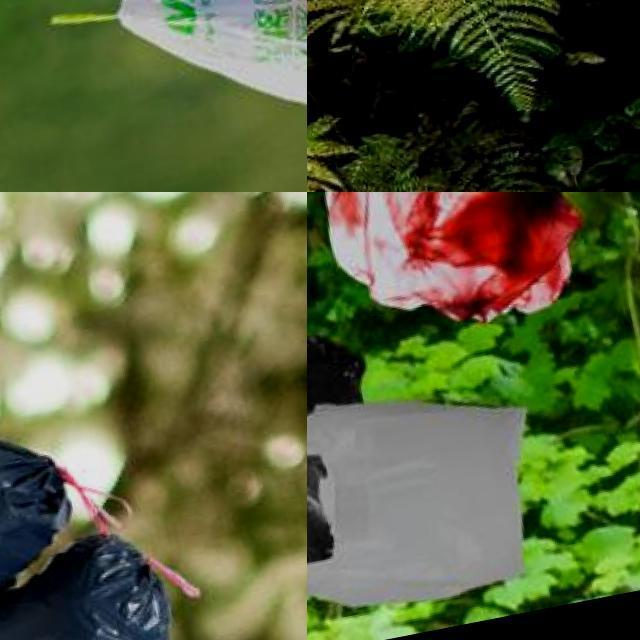waste: (307, 374, 552, 630), (108, 0, 307, 188), (307, 313, 396, 604), (0, 532, 202, 640), (0, 417, 90, 604)
